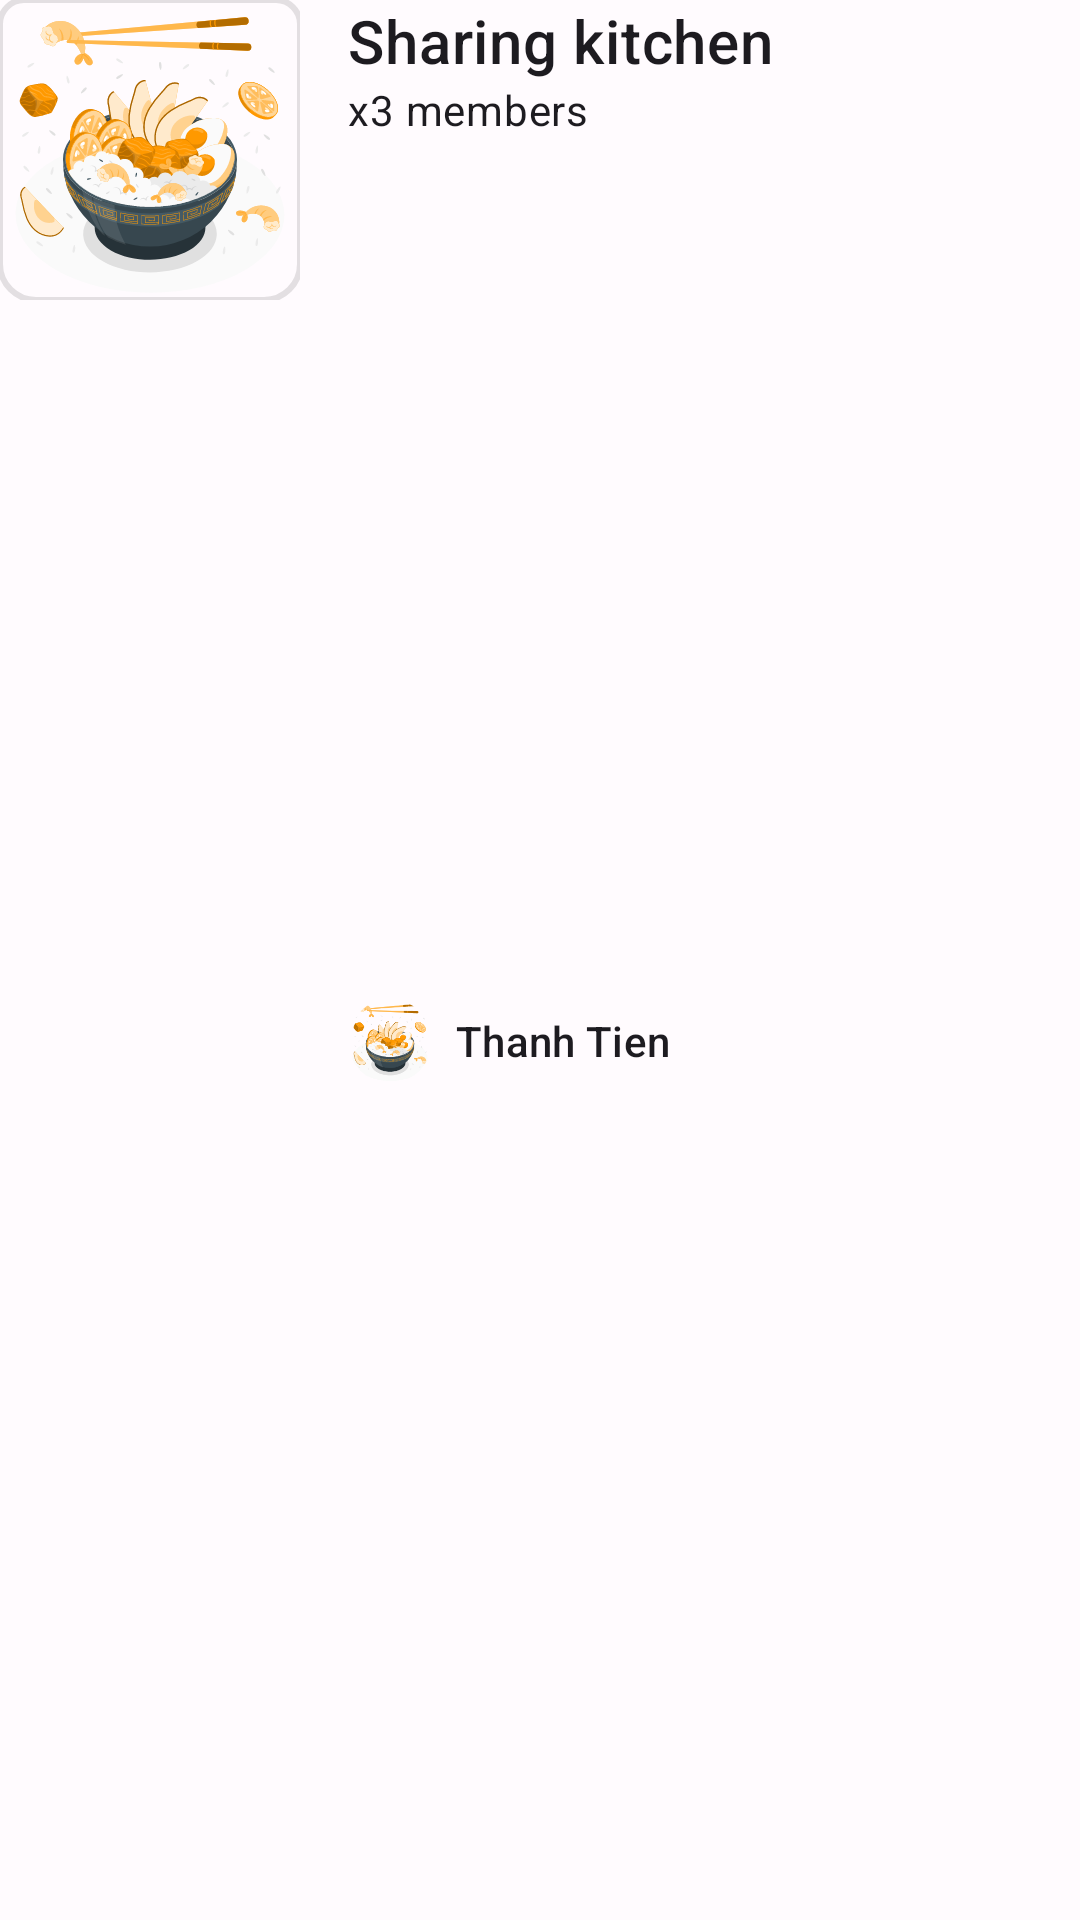

Where to tap for icons on this 1080w x 1920h app screen, as (x,y):
Product's image: (150,150), (389,1039)
